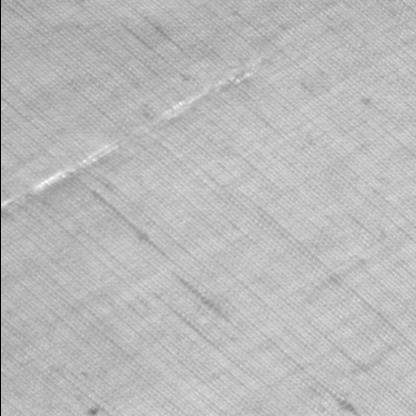thread error: (1, 53, 274, 211)
